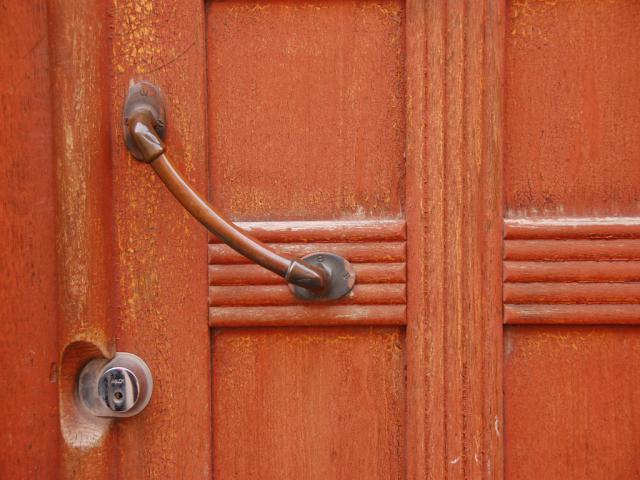Door-handle: (122, 80, 356, 302)
